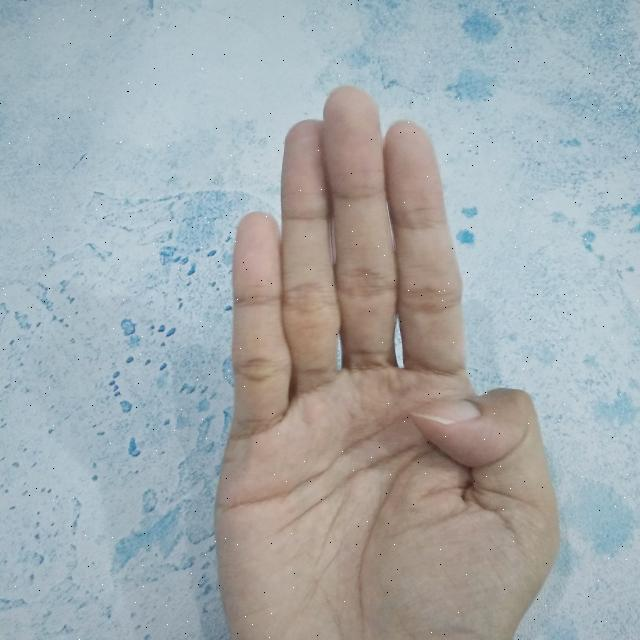B: (220, 81, 561, 640)
